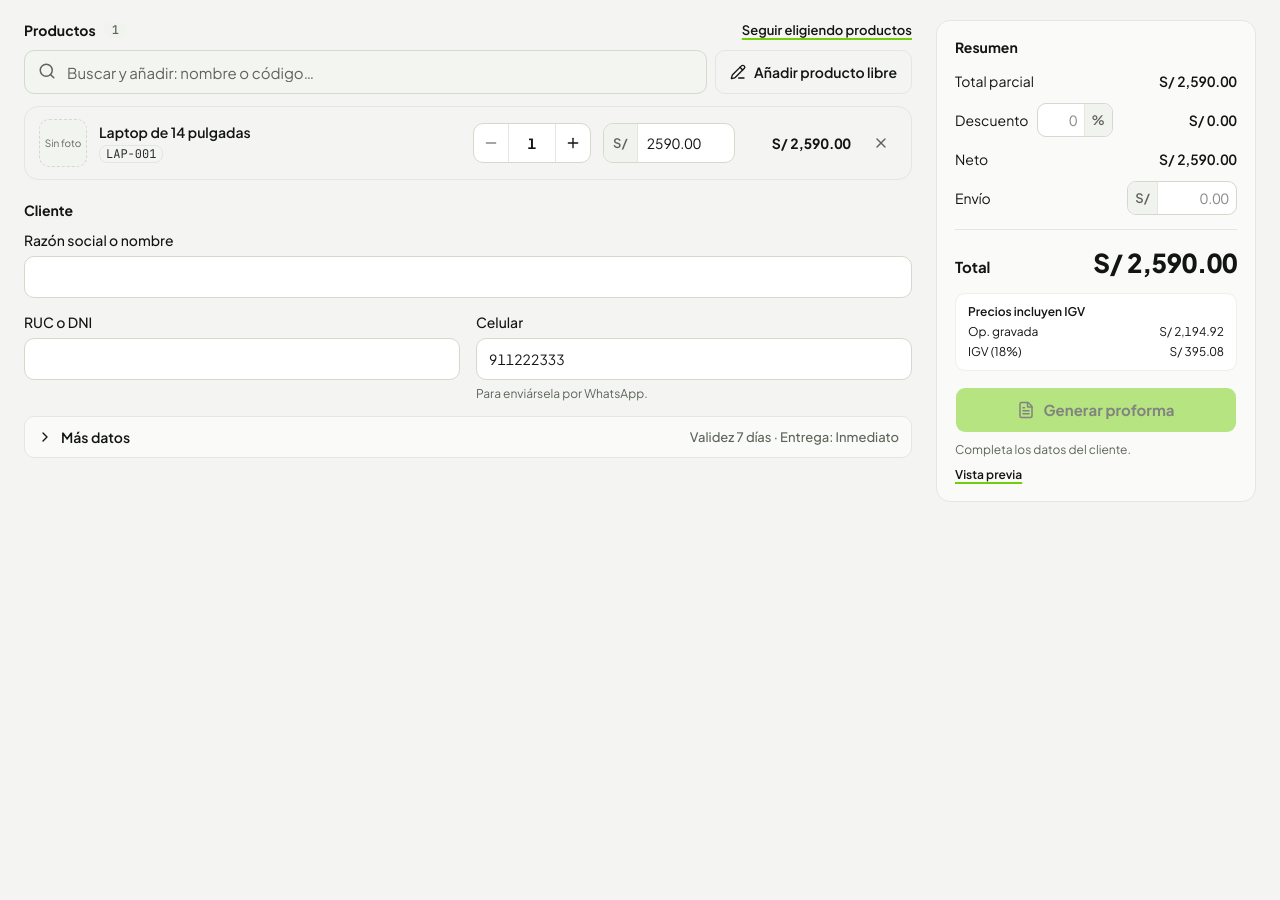
Test: ProformaEditor › cliente desde el historial › con un RUC conocido completa lo vacío desde su proforma más reciente
The width and height of the screenshot is (1280, 900).
Type "20000000001" into the field labelled "RUC o DNI" at (242, 359), box [24,338,460,380]
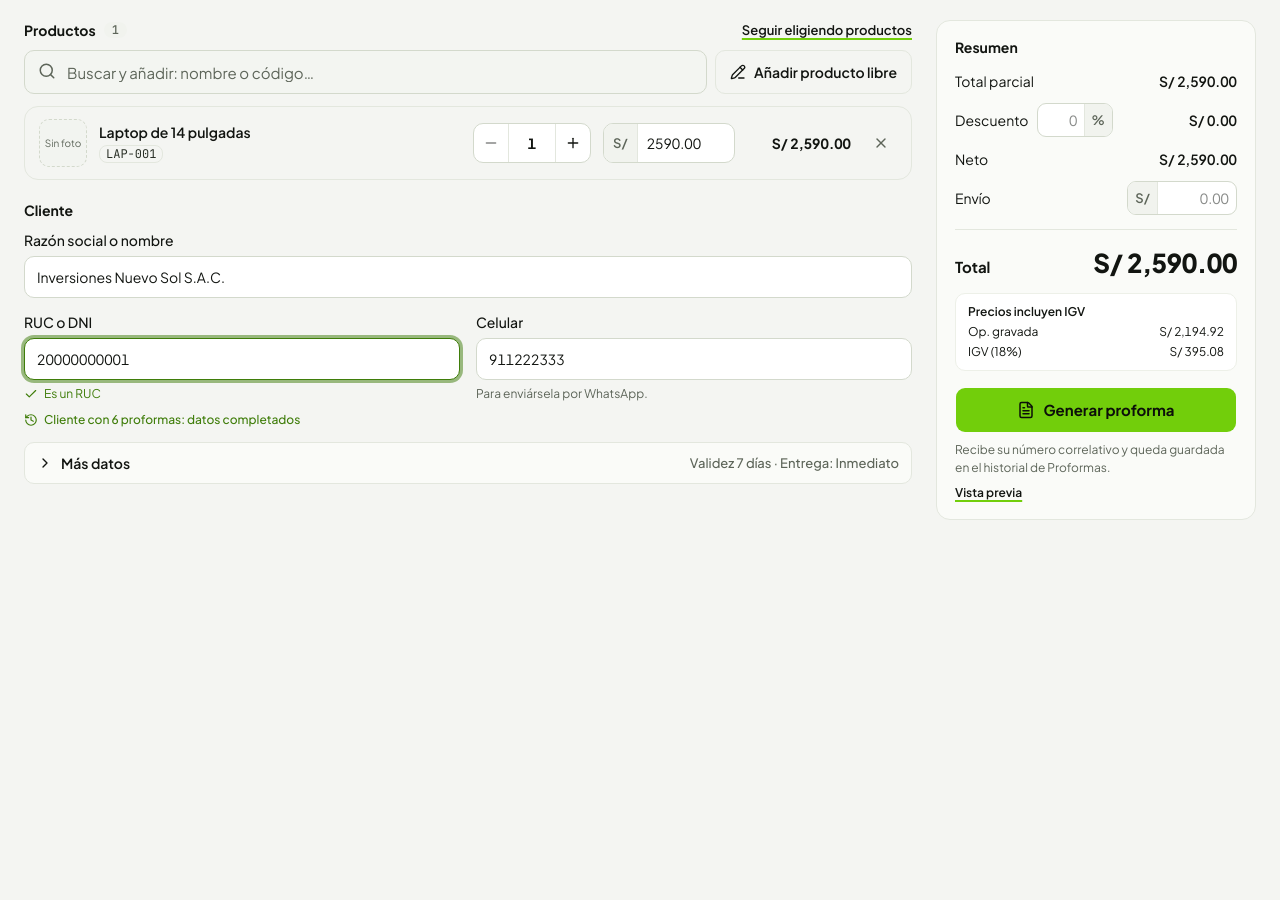
Expected: the field labelled "Celular" holds "911222333", [476,338,912,380]
Now the text "Cliente con 6 proformas: datos completados" is shown, box [24,412,300,427]
Now the field labelled "Razón social o nombre" holds "Inversiones Nuevo Sol S.A.C.", box [24,256,912,298]
Click the button "Más datos Validez 7 días · Entrega: Inmediato" at (96, 463), box [24,442,912,484]
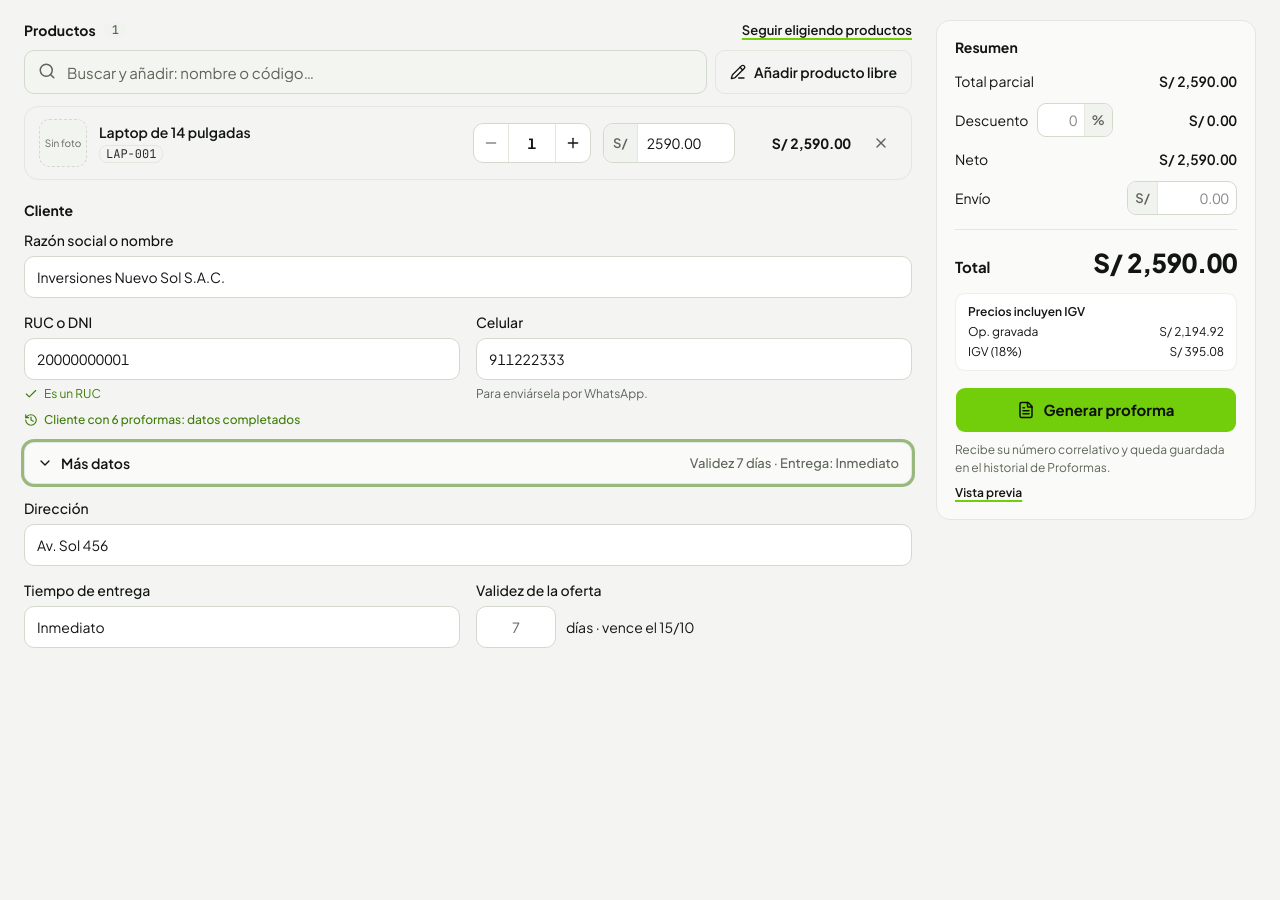
Now the field labelled "Dirección" holds "Av. Sol 456", box [24,524,912,566]
Now the field labelled "Tiempo de entrega" holds "Inmediato", box [24,606,460,648]
